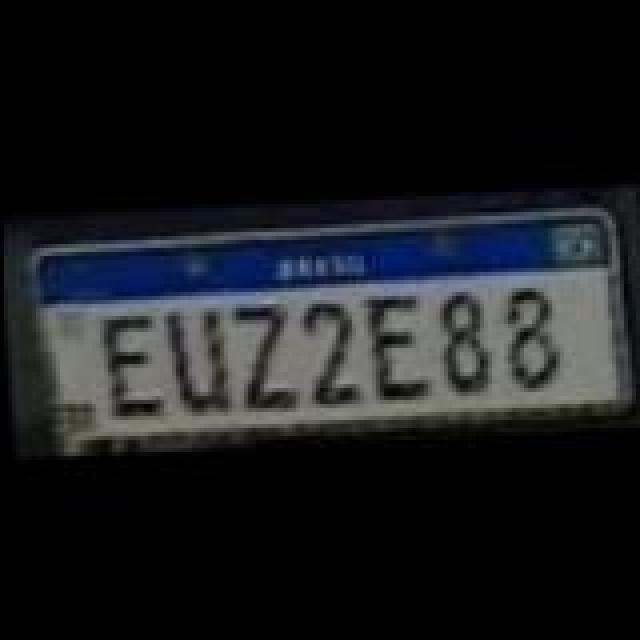2: (294, 296, 358, 408)
8: (430, 290, 490, 398), (498, 284, 558, 388)
E: (98, 312, 170, 420), (364, 290, 428, 402)
U: (166, 302, 230, 410)
Z: (230, 304, 294, 420)
